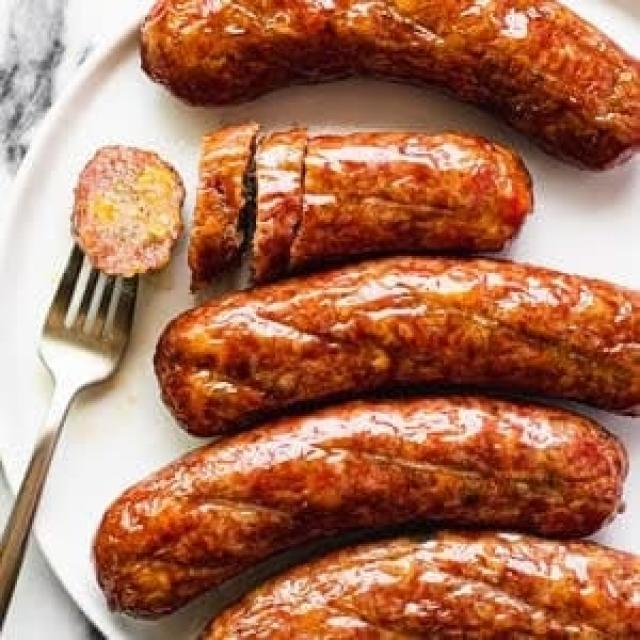sausage: (94, 397, 627, 616), (154, 256, 639, 435), (141, 0, 639, 168), (205, 128, 533, 283), (201, 532, 639, 639), (280, 133, 533, 275), (73, 146, 185, 277), (188, 122, 258, 290), (252, 128, 307, 283)
